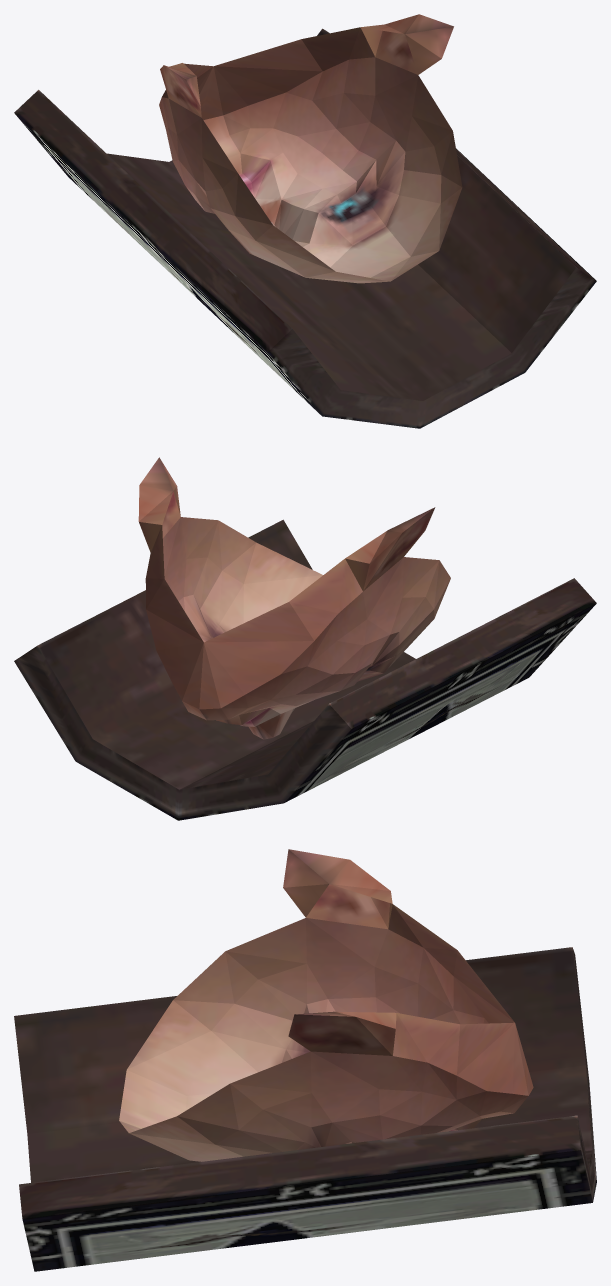
File: common_face_female_2422.obj
3 views of the same model, one above another, from view 1: azimuth 30°, elevation 25°; view 2: azimuth 150°, elevation 25°; view 3: azimuth 270°, elevation 25° (orthographic). The views are drawn at different scales.
Parts seen in each view (by area): view 1: common_face_female_2422; view 2: common_face_female_2422; view 3: common_face_female_2422.
Boxes of the visible parts, x1,y1,x2,y2 form: common_face_female_2422: (14,14,596,428); common_face_female_2422: (14,457,596,820); common_face_female_2422: (14,849,596,1271).
Bounding box in the file's own units: 8.62 × 7.28 × 11.49.
1 material, 1 textured.
